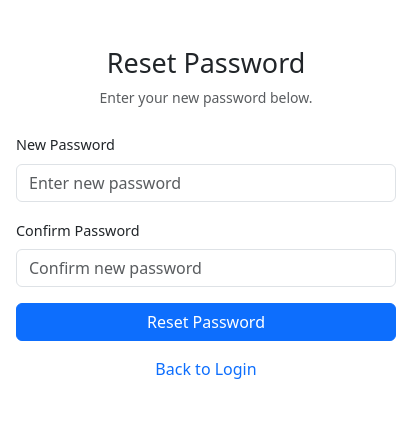
ResetPasswordPage › should clear errors on new submission
# First submission - error
Step 1. Type "weak" into the password field with placeholder "Enter new password" → {"x": 206, "y": 183}, box [16,164,396,202]
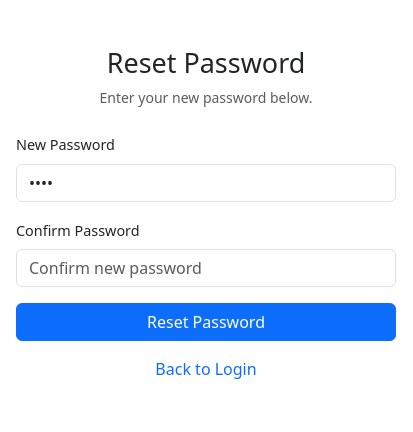
Step 2. Type "weak" into the password field with placeholder "Confirm new password" → {"x": 206, "y": 268}, box [16,249,396,287]
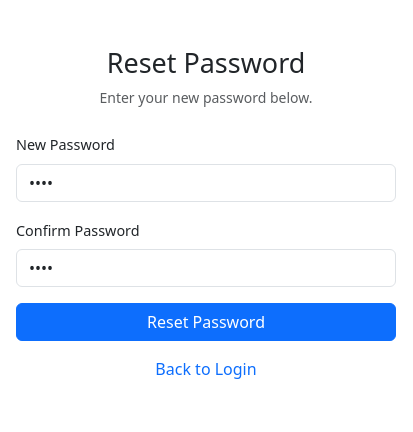
Step 3. Click the button "Reset Password" → {"x": 206, "y": 322}, box [16,303,396,341]
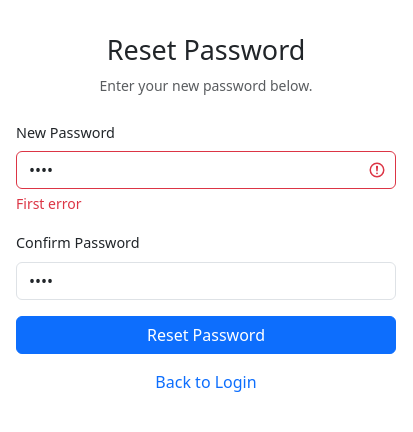
Result: the text "First error" is shown at [16,194,82,213]
# Second submission - success
Step 4. Type "StrongPass123!" into the password field with placeholder "Enter new password" → {"x": 206, "y": 170}, box [16,151,396,189]
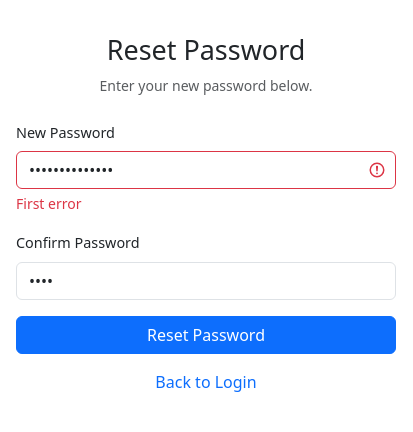
Step 5. Type "StrongPass123!" into the password field with placeholder "Confirm new password" → {"x": 206, "y": 281}, box [16,262,396,300]
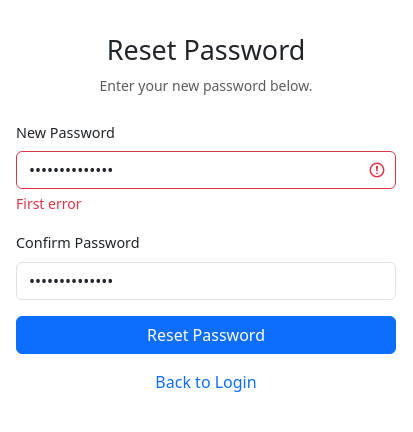
Step 6. Click the button "Reset Password" → {"x": 206, "y": 335}, box [16,316,396,354]
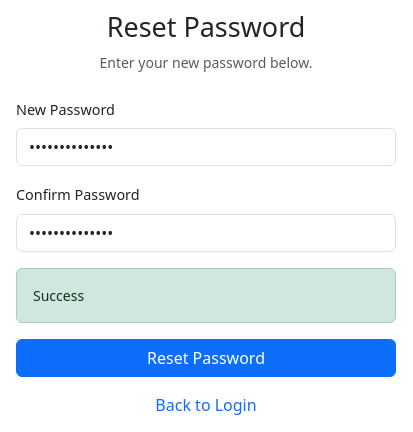
Result: the text "First error" is gone
Result: the text "Success" is shown at [16,268,396,323]
